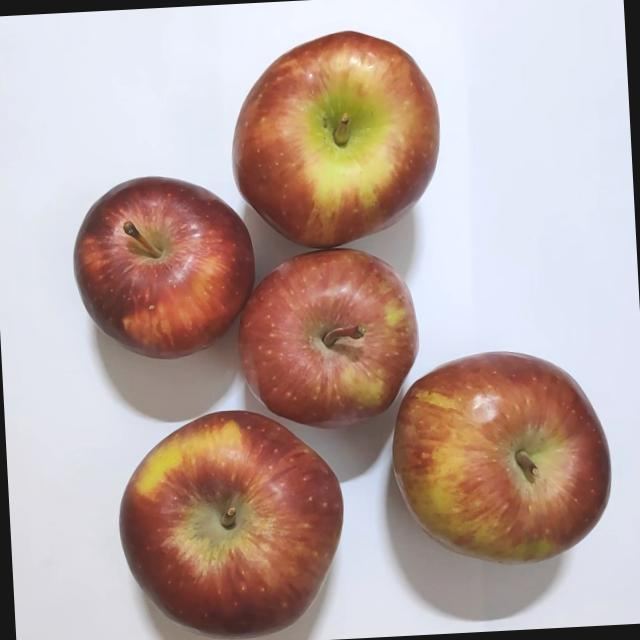apple: (112, 393, 356, 640), (380, 337, 620, 576), (223, 32, 451, 266), (70, 172, 262, 370), (233, 246, 424, 436)
